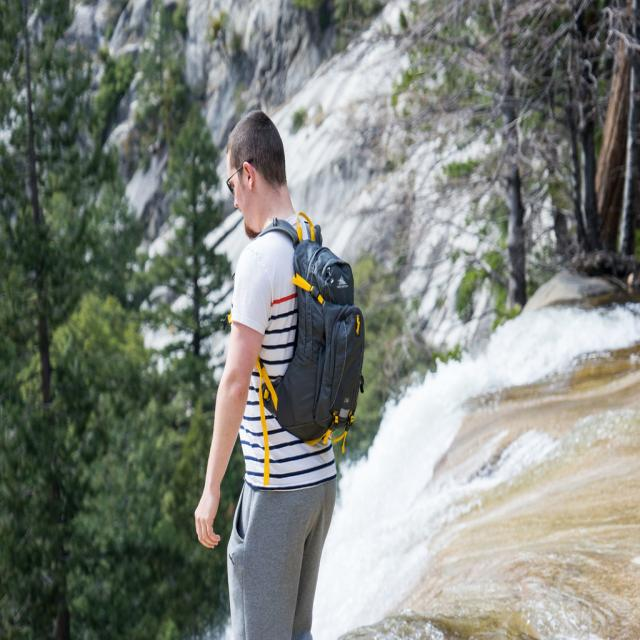backpack: (231, 221, 364, 451)
